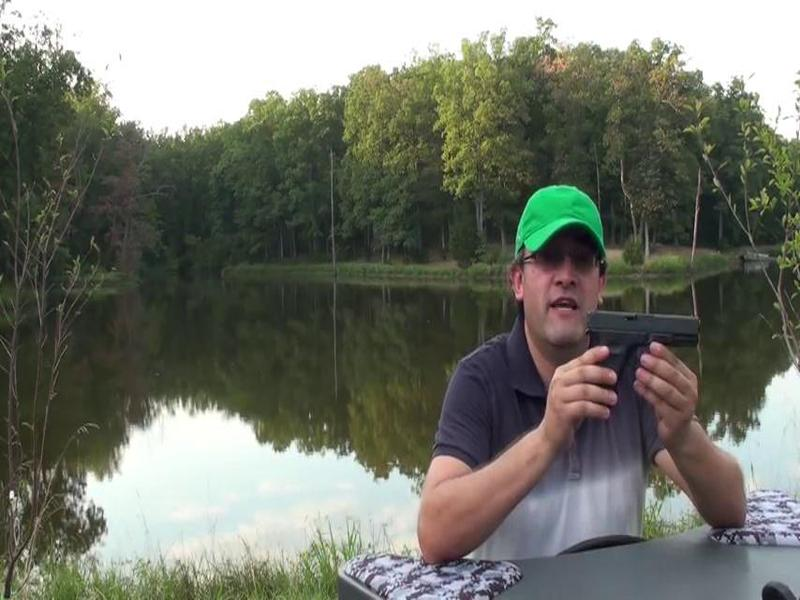Pistola: (568, 286, 717, 411)
